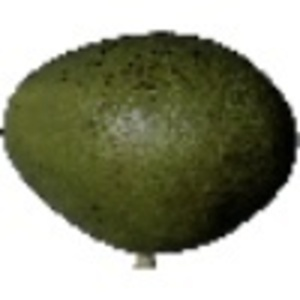abacate: (1, 26, 298, 252)
